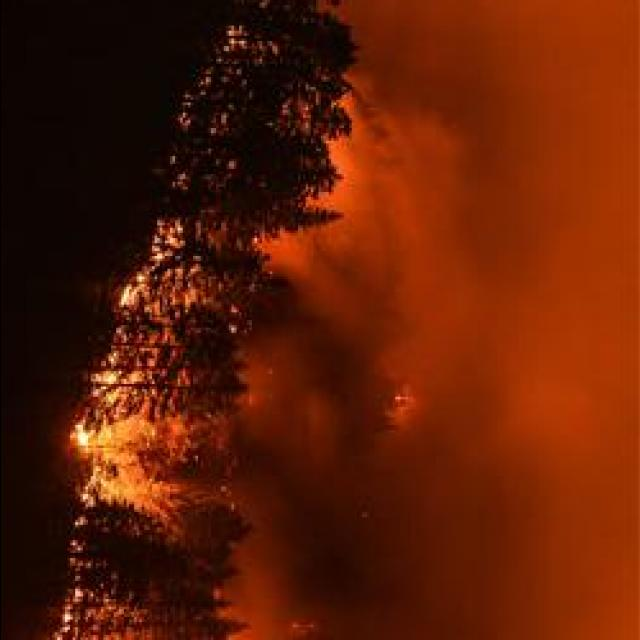smoke: (349, 1, 539, 194), (246, 442, 414, 640), (248, 273, 398, 432)
